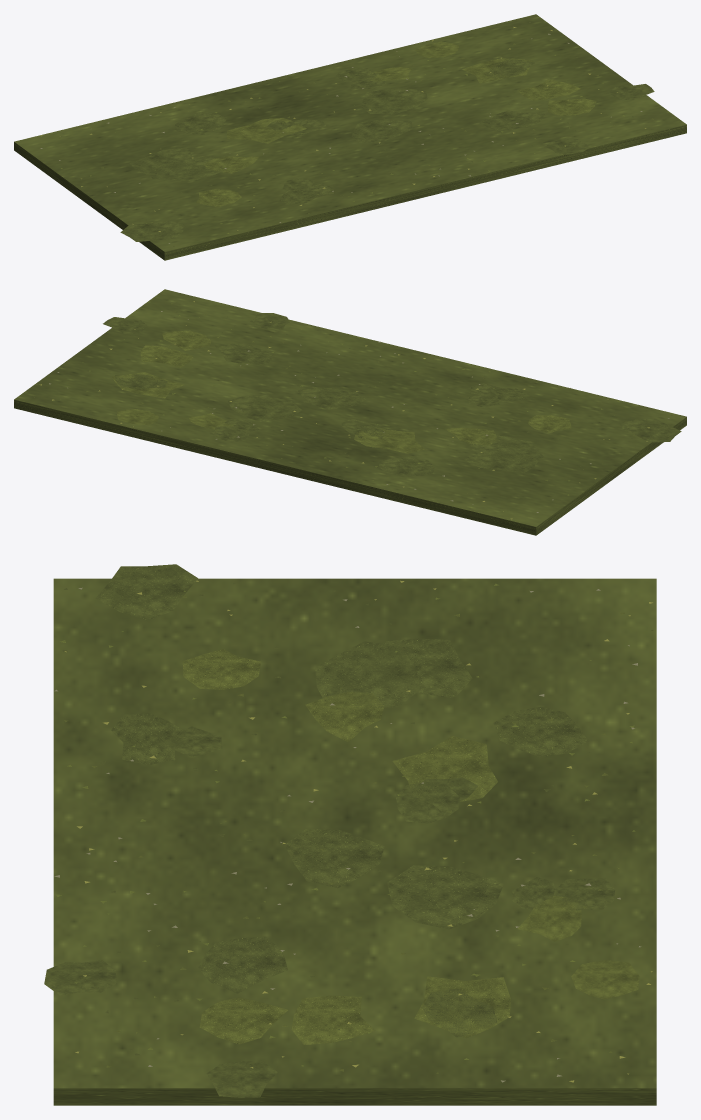
File: ground-patch-1.fbx
3 views of the same model, one above another, from view 1: azimuth 30°, elevation 25°; view 2: azimuth 150°, elevation 25°; view 3: azimuth 270°, elevation 25° (orthographic). The views are drawn at different scales.
Visible parts, largest first — view 1: ground-patch-1__Geometry; view 2: ground-patch-1__Geometry; view 3: ground-patch-1__Geometry.
Boxes of the visible parts, x1,y1,x2,y2 form: ground-patch-1__Geometry: (14, 14, 686, 260); ground-patch-1__Geometry: (14, 289, 686, 535); ground-patch-1__Geometry: (44, 564, 656, 1105).
Bounding box in the file's own units: 10.47 × 0.171 × 5.08.
1 material, 1 textured.
